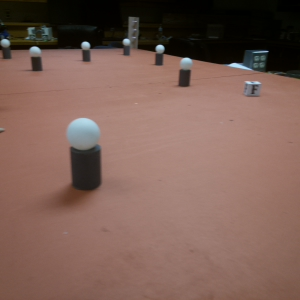blockF: (243, 79, 261, 98)
corner: (128, 16, 139, 46)
obstacle: (66, 116, 105, 191), (178, 55, 192, 86), (28, 46, 44, 72), (154, 43, 166, 68), (80, 40, 93, 61), (1, 39, 13, 59), (123, 39, 132, 57)
